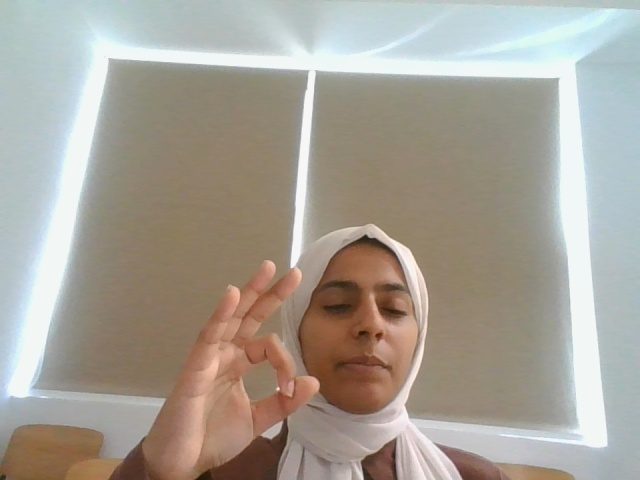okay: (174, 254, 320, 455)
